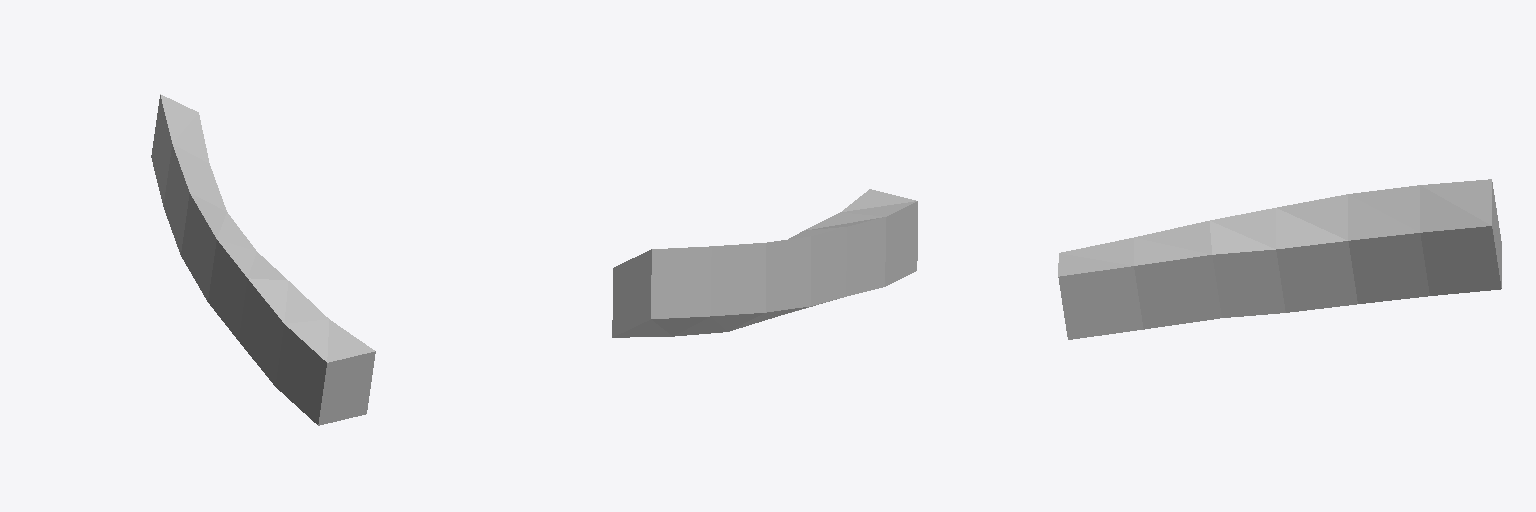
The model's file is curved_ramp_right_gravity_shape.obj.
The picture shows the model from 3 angles: view 1: azimuth 30°, elevation 25°; view 2: azimuth 150°, elevation 25°; view 3: azimuth 270°, elevation 25°; orthographic projection.
Visible parts, largest first — view 1: CurvedSlopeMainMesh.002_Cube.003; view 2: CurvedSlopeMainMesh.002_Cube.003; view 3: CurvedSlopeMainMesh.002_Cube.003.
Part boxes in pixels (x1,y1,x2,y2): CurvedSlopeMainMesh.002_Cube.003: (151, 94, 375, 425); CurvedSlopeMainMesh.002_Cube.003: (612, 189, 917, 337); CurvedSlopeMainMesh.002_Cube.003: (1058, 179, 1501, 339).
Bounding box in the file's own units: 0.8545 × 1.37 × 3.35.